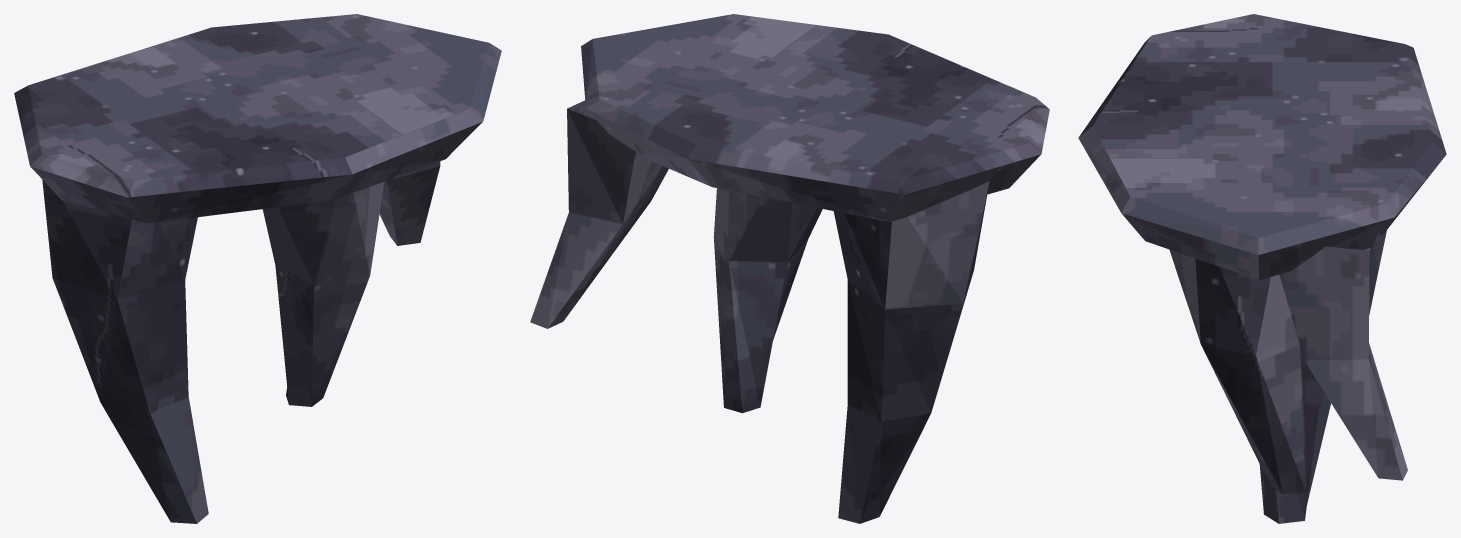
File: SM_CV_StalactitesA.fbx
3 views of the same model, side by side, from view 1: azimuth 30°, elevation 25°; view 2: azimuth 150°, elevation 25°; view 3: azimuth 270°, elevation 25° (orthographic). The views are drawn at different scales.
Visible parts, largest first — view 1: CV_StalactitesA_Plate, CV_StalactitesA_Spikes; view 2: CV_StalactitesA_Plate, CV_StalactitesA_Spikes; view 3: CV_StalactitesA_Plate, CV_StalactitesA_Spikes.
Part boxes in pixels (x1,y1,x2,y2): CV_StalactitesA_Plate: (14,14,501,223); CV_StalactitesA_Spikes: (42,161,440,523); CV_StalactitesA_Plate: (581,14,1049,222); CV_StalactitesA_Spikes: (530,100,989,523); CV_StalactitesA_Plate: (1078,14,1446,280); CV_StalactitesA_Spikes: (1169,230,1407,523).
Bounding box in the file's own units: 1.16 × 0.96 × 0.7617.
